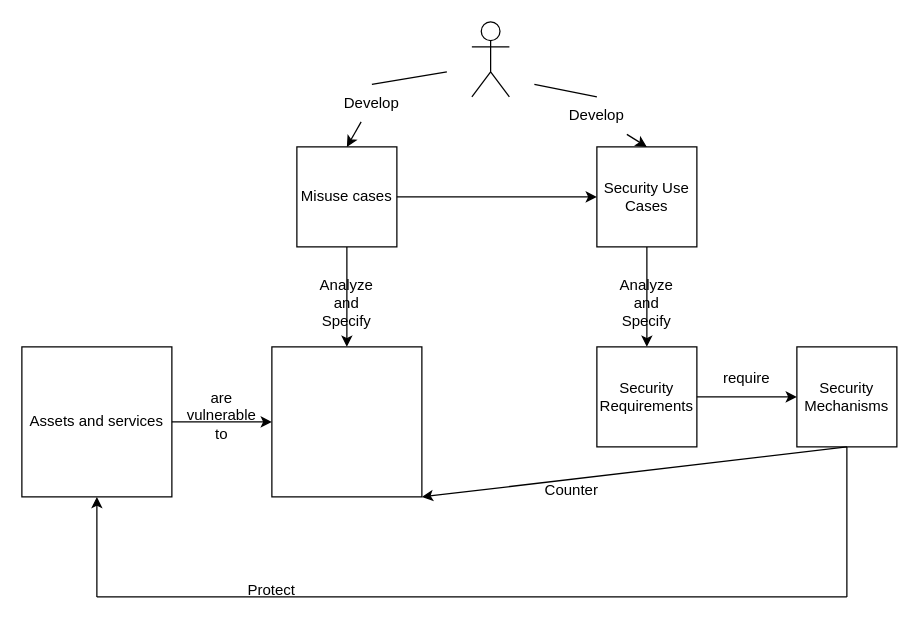
This 919x631 diagram has some shape labels left out. Each missing label, with the centre of its shape:
"Actor" belongs at pixel 490 59.
"Security Threats" belongs at pixel 346 421.
